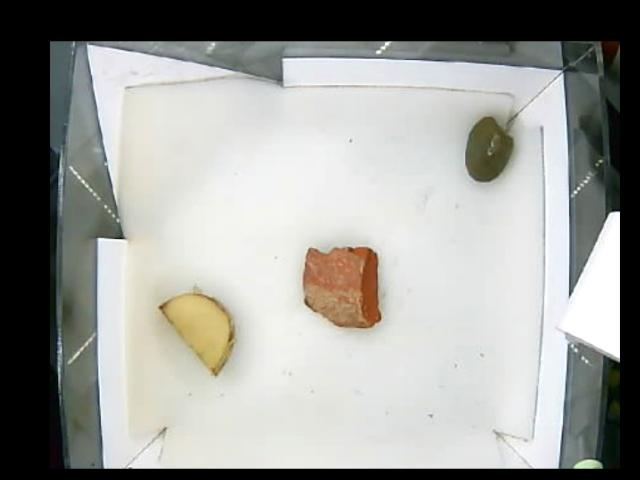Brisk: (302, 245, 380, 332)
Pebble: (461, 116, 515, 183)
Potato: (156, 292, 240, 378)
